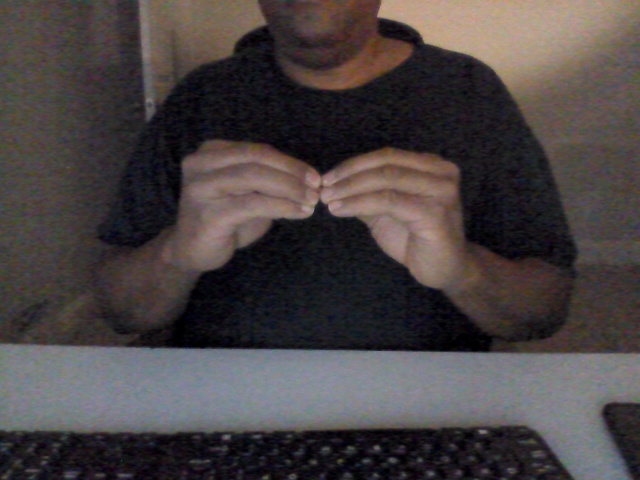more: (171, 134, 474, 288)
